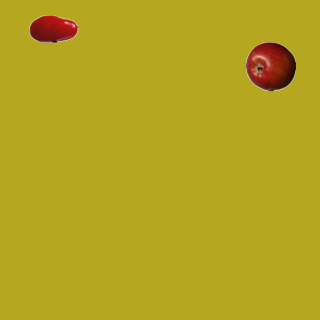Apple Braeburn: (245, 41, 295, 91)
Tomato 2: (28, 3, 78, 53)
